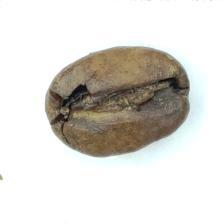NG: (65, 82, 182, 148)
